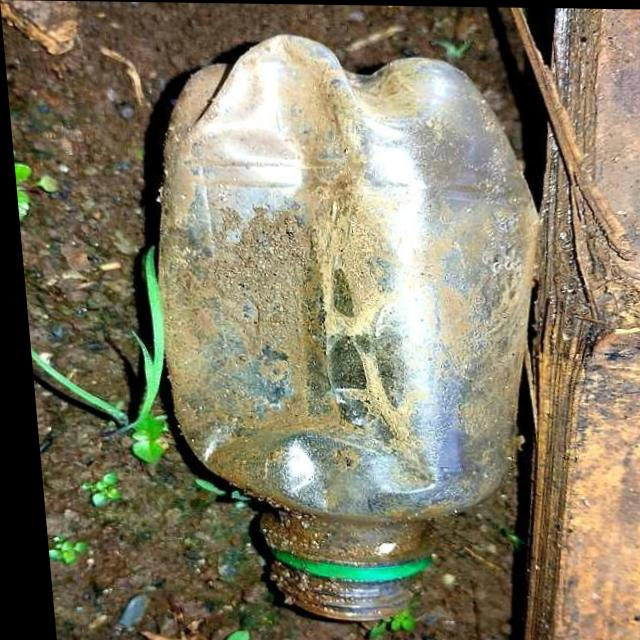Non-biodegradable: (136, 30, 555, 624)
